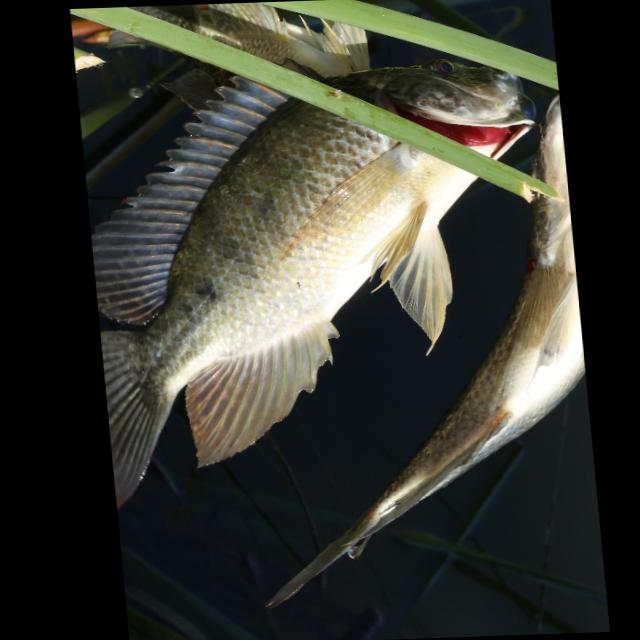Tilapia: (73, 52, 575, 508)
